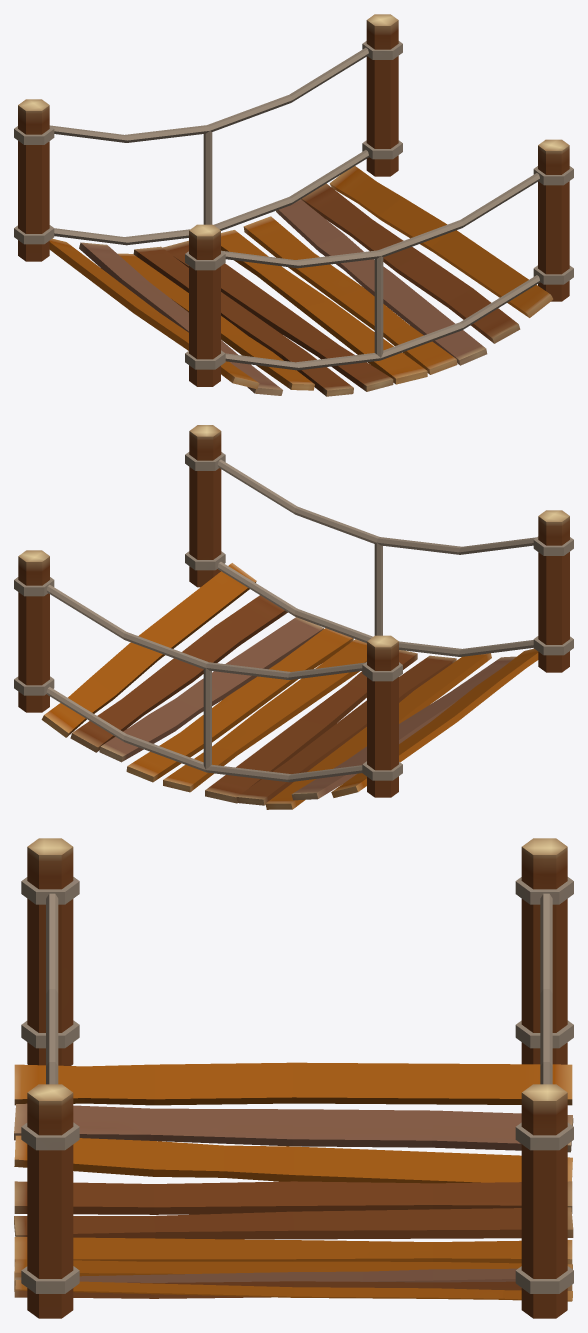
The model's file is kit-rope-bridge.glb.
3 views of the same model, one above another, from view 1: azimuth 30°, elevation 25°; view 2: azimuth 150°, elevation 25°; view 3: azimuth 270°, elevation 25° (orthographic). The views are drawn at different scales.
Parts seen in each view (by area): view 1: Cube.265; view 2: Cube.265; view 3: Cube.265.
Boxes of the visible parts, x1=… form: Cube.265: x1=14, y1=14, x2=573, y2=396; Cube.265: x1=14, y1=425, x2=573, y2=809; Cube.265: x1=14, y1=838, x2=573, y2=1318.
Size of the model in its own units: 2.02 by 0.9631 by 1.79.
Materials: 1 (1 with a texture image).
